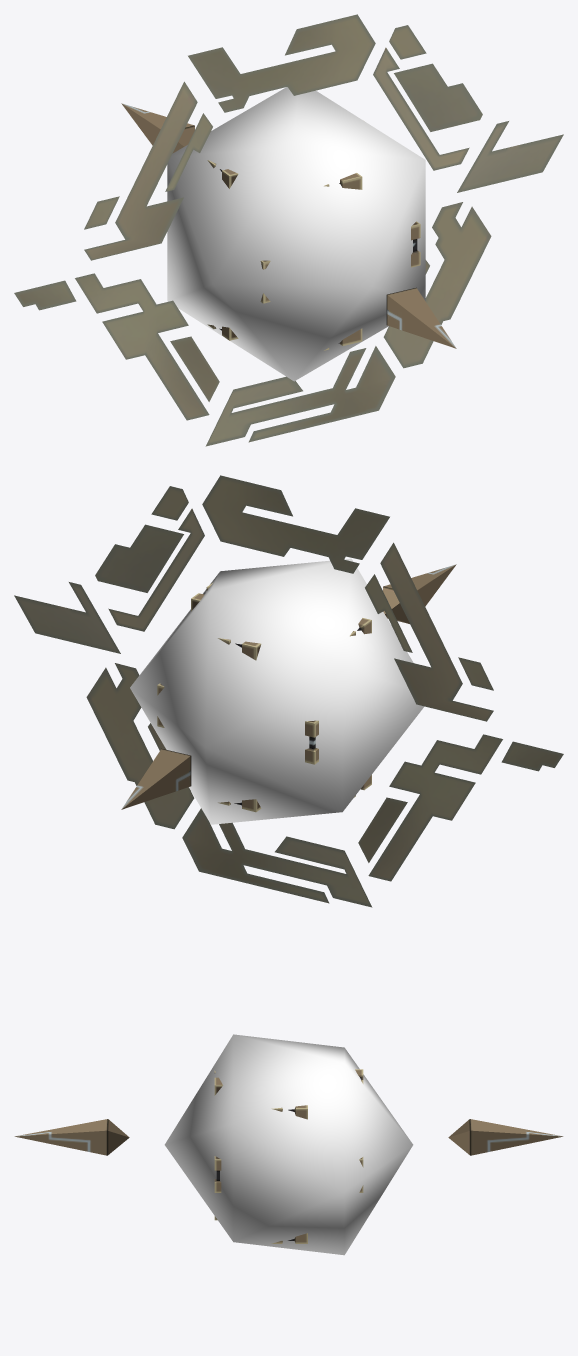
File: Equip_Catalyst_Kunwu_Model.fbx
3 renders of one model, top to bottom at view 1: azimuth 30°, elevation 25°; view 2: azimuth 150°, elevation 25°; view 3: azimuth 270°, elevation 25°, orthographic. The views are drawn at different scales.
Visible parts, largest first — view 1: Equip_CatalystBall_EffectMesh, Equip_Catalyst_Kunwu_Model; view 2: Equip_CatalystBall_EffectMesh, Equip_Catalyst_Kunwu_Model; view 3: Equip_CatalystBall_EffectMesh, Equip_Catalyst_Kunwu_Model.
Boxes of the visible parts, x1,y1,x2,y2 form: Equip_CatalystBall_EffectMesh: (167, 87, 425, 381); Equip_Catalyst_Kunwu_Model: (14, 14, 563, 446); Equip_CatalystBall_EffectMesh: (130, 558, 424, 824); Equip_Catalyst_Kunwu_Model: (14, 475, 563, 907); Equip_CatalystBall_EffectMesh: (164, 1034, 413, 1255); Equip_Catalyst_Kunwu_Model: (14, 1069, 563, 1243).
Bounding box in the file's own units: 0.6627 × 0.4623 × 0.7007.
